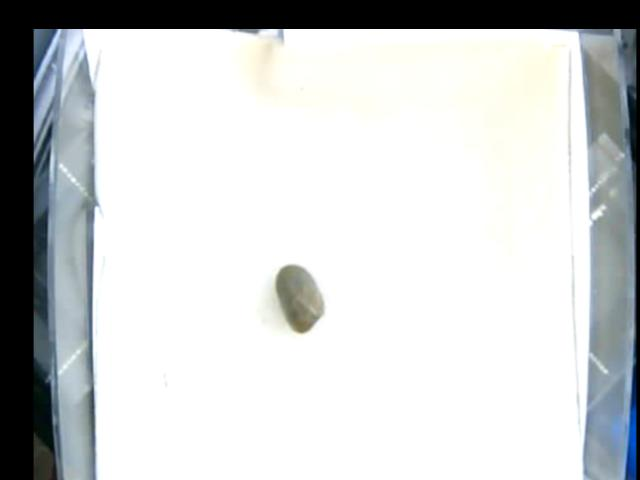Pebble: (274, 263, 325, 334)
